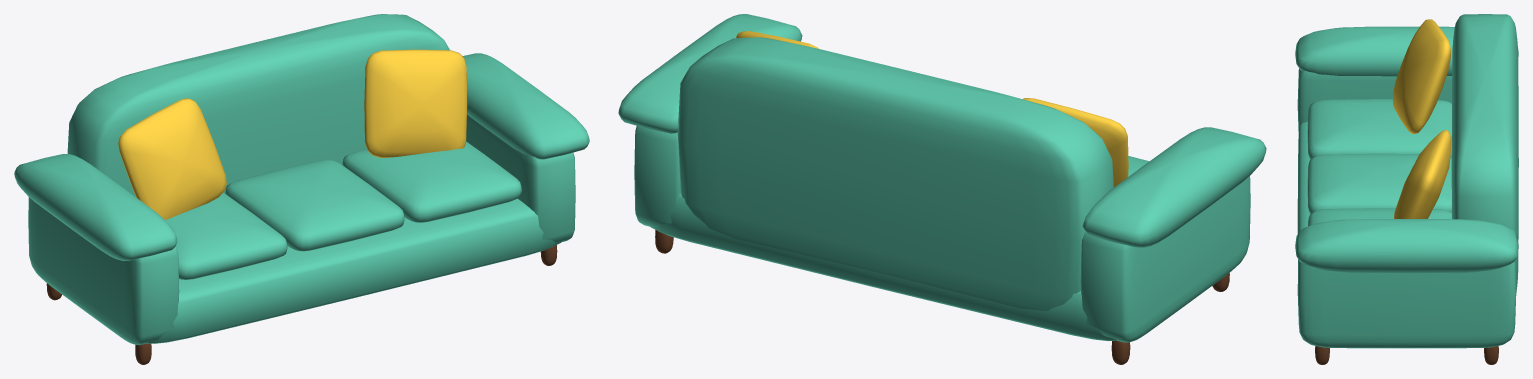
The model's file is sofa_encosto_inteiro_verde_agua.glb.
3 views of the same model, side by side, from view 1: azimuth 30°, elevation 25°; view 2: azimuth 150°, elevation 25°; view 3: azimuth 270°, elevation 25° (orthographic). The views are drawn at different scales.
Parts seen in each view (by area): view 1: sofa_encosto_inteiro_verde_agua; view 2: sofa_encosto_inteiro_verde_agua; view 3: sofa_encosto_inteiro_verde_agua.
Boxes of the visible parts, x1=… form: sofa_encosto_inteiro_verde_agua: x1=14, y1=14, x2=589, y2=364; sofa_encosto_inteiro_verde_agua: x1=618, y1=14, x2=1266, y2=364; sofa_encosto_inteiro_verde_agua: x1=1295, y1=14, x2=1518, y2=364.
Size of the model in its own units: 2.12 by 0.86 by 0.9.
Materials: 1 (1 with a texture image).
